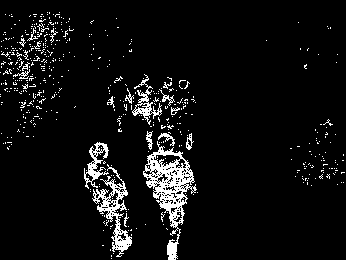person: (142, 133, 198, 259), (83, 141, 132, 260), (170, 77, 197, 151), (132, 72, 156, 150), (106, 72, 132, 133), (154, 74, 178, 133)
